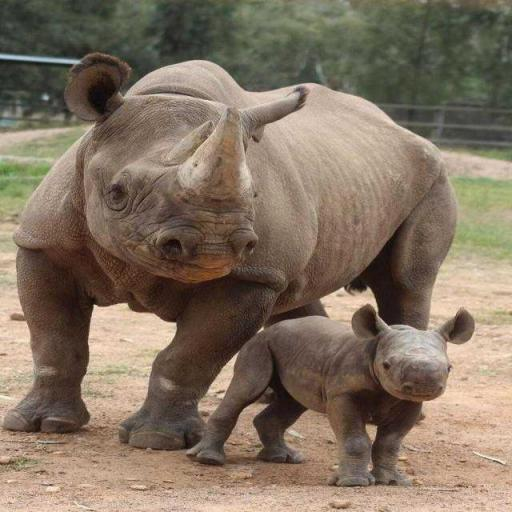Rhino: (2, 50, 458, 452), (184, 302, 475, 487)
